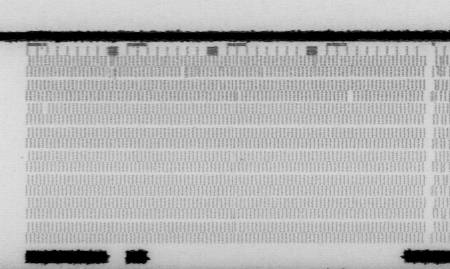Broken hole: (39, 100, 52, 115), (345, 90, 357, 103)
Oblique printing: (433, 129, 450, 225), (432, 55, 450, 105), (104, 55, 122, 81), (178, 64, 190, 78), (231, 90, 243, 103), (258, 67, 270, 79)
